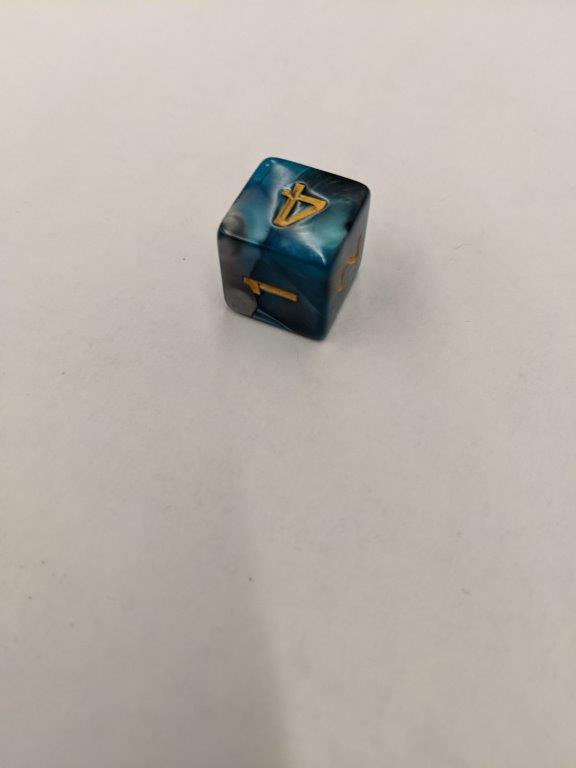d6-4: (215, 152, 373, 339)
